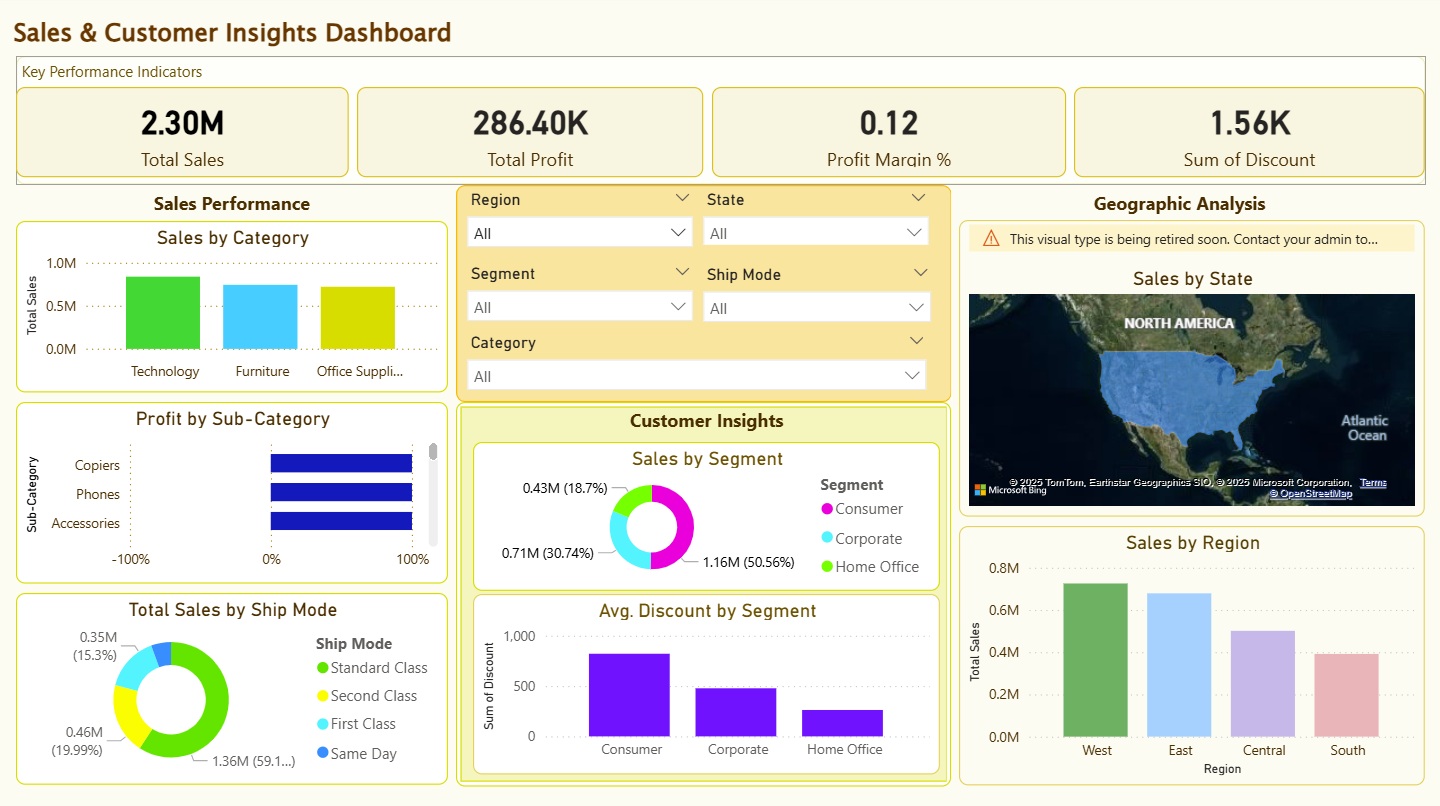

What the dashboard file says about the page in this screenshot:
{"tool":"powerbi","page":{"name":"Page 1","canvas":[1280,720],"ordinal":0},"visuals":[{"type":"textbox","box":[8.1,11.1,590.6,57.4],"z":0},{"type":"shape","box":[15.1,53.4,1249.8,113.9],"z":1000},{"type":"card","fields":{"Values":["SampleSuperstore.Total Sales"]},"box":[15.1,80.6,295.3,79.6],"z":2000},{"type":"card","fields":{"Values":["SampleSuperstore.Profit Margin %"]},"box":[631.9,80.6,314,79.6],"z":3000},{"type":"card","fields":{"Values":["Sum(SampleSuperstore.Discount)"]},"box":[953.4,80.6,311.4,79.6],"z":4000},{"type":"card","fields":{"Values":["SampleSuperstore.Total Profit"]},"box":[317.5,80.6,307.4,79.6],"z":5000},{"type":"textbox","box":[15.1,53.4,207.6,36.3],"z":6000},{"type":"clusteredColumnChart","title":"Sales by Category","fields":{"Category":["SampleSuperstore.Category"],"Y":["SampleSuperstore.Total Sales"]},"box":[15.1,199.6,383,152.2],"z":7000},{"type":"hundredPercentStackedBarChart","title":"Profit by Sub-Category","fields":{"Category":["SampleSuperstore.Sub-Category"],"Y":["SampleSuperstore.Total Profit"]},"box":[15.1,359.8,383,161.3],"z":8000},{"type":"donutChart","fields":{"Category":["SampleSuperstore.Ship Mode"],"Y":["SampleSuperstore.Total Sales"]},"box":[15.1,529.1,383,170.3],"z":9000},{"type":"shape","box":[405.2,359.8,439.4,340.7],"z":10000},{"type":"textbox","box":[423.3,359.8,409.2,32.3],"z":11000},{"type":"donutChart","title":"Sales by Segment","fields":{"Category":["SampleSuperstore.Segment"],"Y":["SampleSuperstore.Total Sales"]},"box":[420.3,395.1,414.2,132],"z":12000},{"type":"columnChart","title":"Avg. Discount by Segment","fields":{"Category":["SampleSuperstore.Segment"],"Y":["Sum(SampleSuperstore.Discount)"]},"box":[420.3,530.1,414.2,160.3],"z":13000},{"type":"textbox","box":[15.1,167.3,383,31.2],"z":13001},{"type":"filledMap","title":"Sales by State","fields":{"Category":["SampleSuperstore.State"]},"box":[851.7,198.6,413.2,263.1],"z":13003},{"type":"textbox","box":[836.5,167.3,421.3,46.4],"z":13004},{"type":"columnChart","title":"Sales by Region","fields":{"Category":["SampleSuperstore.Region"],"Y":["SampleSuperstore.Total Sales"]},"box":[851.7,469.7,413.2,229.8],"z":13005},{"type":"shape","box":[405.2,167.3,439.4,192.5],"z":13006},{"type":"slicer","fields":{"Values":["SampleSuperstore.Region"]},"box":[405.2,167.3,219.7,58.5],"z":13007},{"type":"slicer","fields":{"Values":["SampleSuperstore.State"]},"box":[614.8,167.3,219.7,53.4],"z":13008},{"type":"slicer","fields":{"Values":["SampleSuperstore.Segment"]},"box":[405.2,232.8,219.7,61.5],"z":13009},{"type":"slicer","fields":{"Values":["SampleSuperstore.Ship Mode"]},"box":[614.8,233.8,221.7,60.5],"z":13010},{"type":"slicer","fields":{"Values":["SampleSuperstore.Category"]},"box":[405.2,294.3,427.3,60.5],"z":13011}]}

Visuals, with their boxes in screenshot pixels (x1, y1, x2, y2), scaled from the page's 1280x720 canvas onto the 1440x806 screenshot:
textbox: (9, 12, 674, 77)
shape: (17, 60, 1423, 187)
card - SampleSuperstore.Total Sales: (17, 90, 349, 179)
card - SampleSuperstore.Profit Margin %: (711, 90, 1064, 179)
card - Sum(SampleSuperstore.Discount): (1073, 90, 1423, 179)
card - SampleSuperstore.Total Profit: (357, 90, 703, 179)
textbox: (17, 60, 251, 100)
"Sales by Category" clusteredColumnChart: (17, 223, 448, 394)
"Profit by Sub-Category" hundredPercentStackedBarChart: (17, 403, 448, 583)
donutChart - SampleSuperstore.Ship Mode x SampleSuperstore.Total Sales: (17, 592, 448, 783)
shape: (456, 403, 950, 784)
textbox: (476, 403, 937, 439)
"Sales by Segment" donutChart: (473, 442, 939, 590)
"Avg. Discount by Segment" columnChart: (473, 593, 939, 773)
textbox: (17, 187, 448, 222)
"Sales by State" filledMap: (958, 222, 1423, 517)
textbox: (941, 187, 1415, 239)
"Sales by Region" columnChart: (958, 526, 1423, 783)
shape: (456, 187, 950, 403)
slicer - SampleSuperstore.Region: (456, 187, 703, 253)
slicer - SampleSuperstore.State: (692, 187, 939, 247)
slicer - SampleSuperstore.Segment: (456, 261, 703, 329)
slicer - SampleSuperstore.Ship Mode: (692, 262, 941, 329)
slicer - SampleSuperstore.Category: (456, 329, 937, 397)
